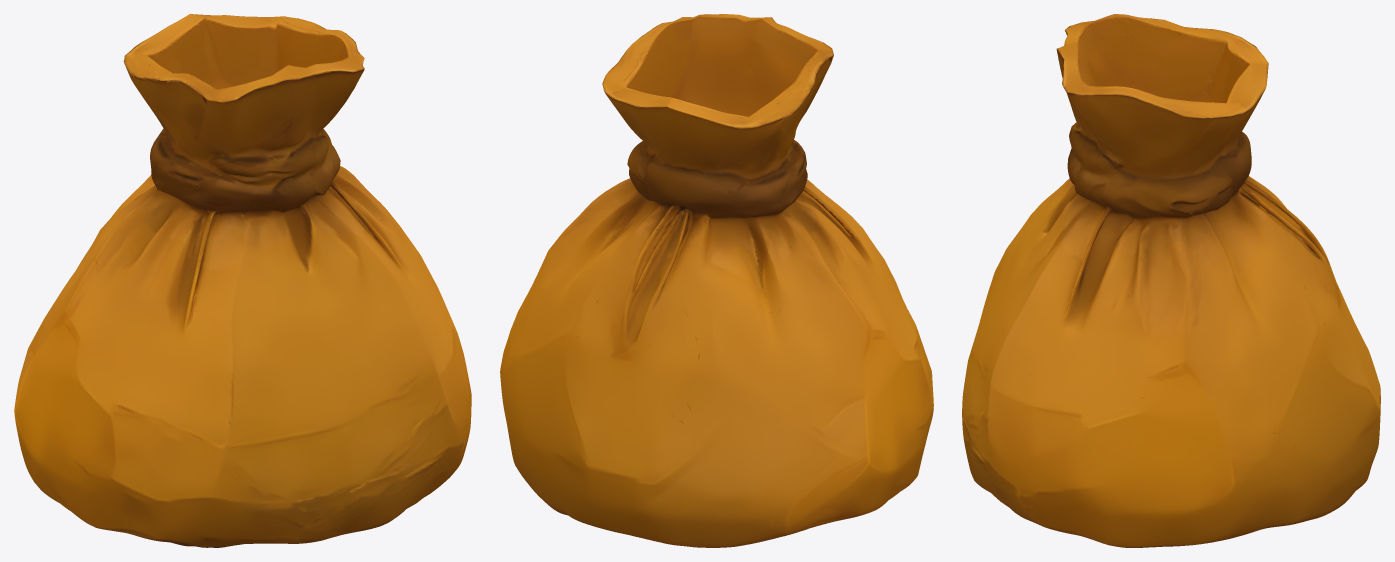
File: base_basic_shaded.fbx
The picture shows the model from 3 angles, left to right: view 1: azimuth 30°, elevation 25°; view 2: azimuth 150°, elevation 25°; view 3: azimuth 270°, elevation 25°; orthographic projection. The views are drawn at different scales.
Parts seen in each view (by area): view 1: model; view 2: model; view 3: model.
Part boxes in pixels (<box>): model: <box>14,14,471,547</box>; model: <box>500,14,933,547</box>; model: <box>962,14,1380,547</box>.
Bounding box in the file's own units: 162 × 190 × 154.
